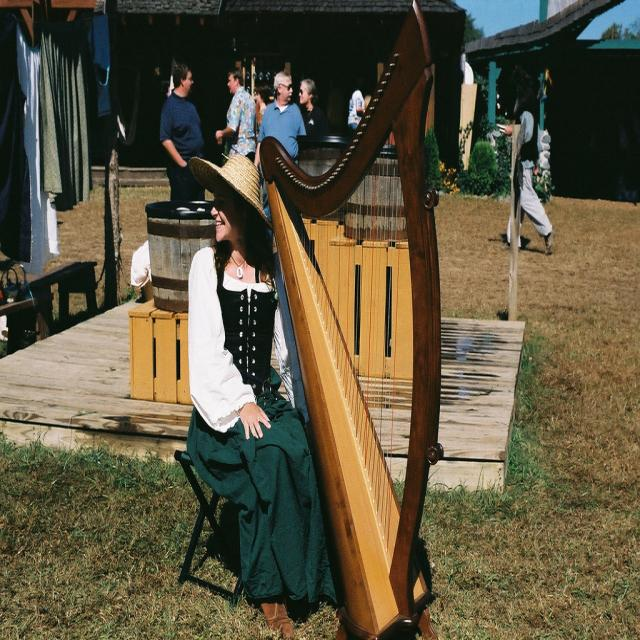harp: (254, 0, 439, 640)
